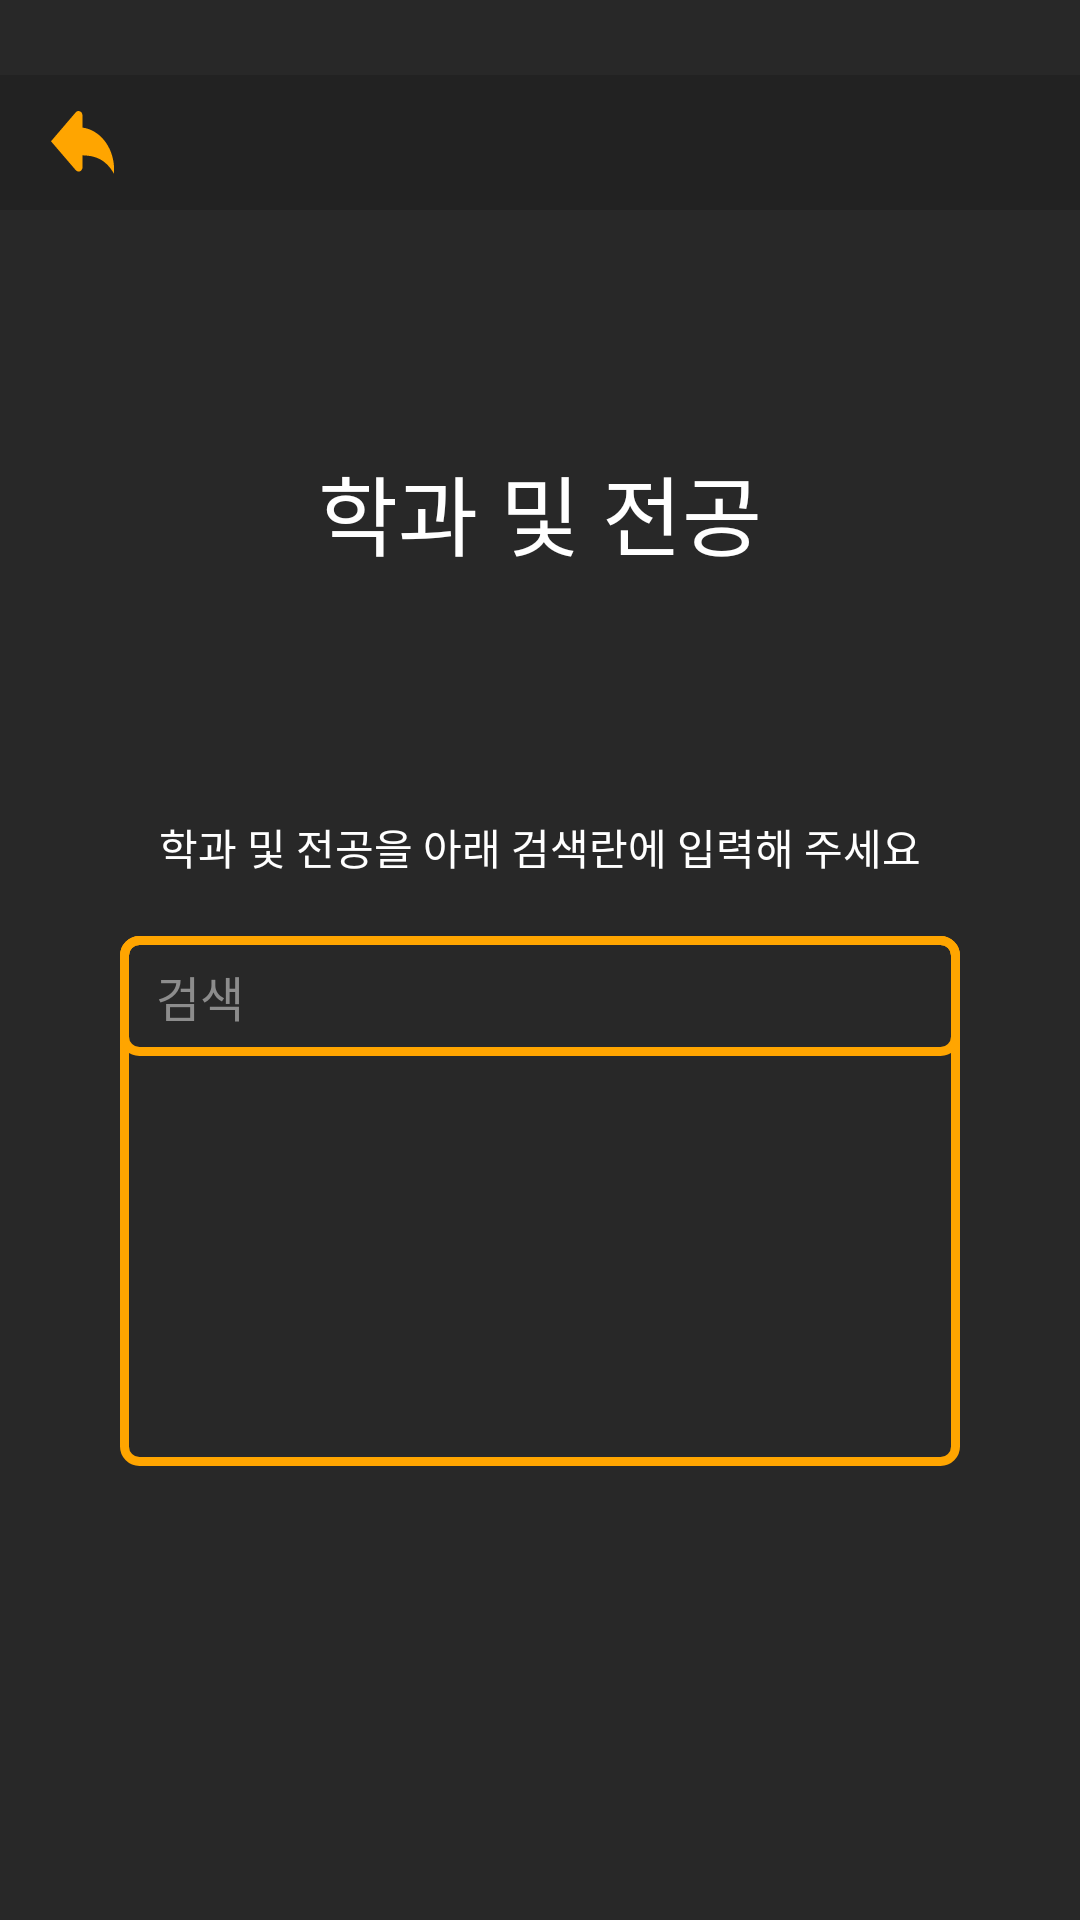

Icons on this 1080w x 1920h Android screen, each with the point to tap as [x,y]:
return: [82,142]
